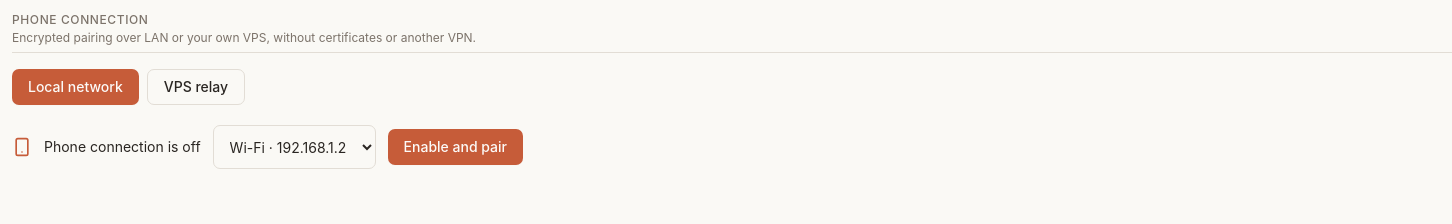
Test: desktop phone pairing › requires an explicit action and never presents a QR when the listener fails
This screenshot has width=1452, height=224.
Click the button "Enable and pair": x=455, y=147 [388,129,523,165]
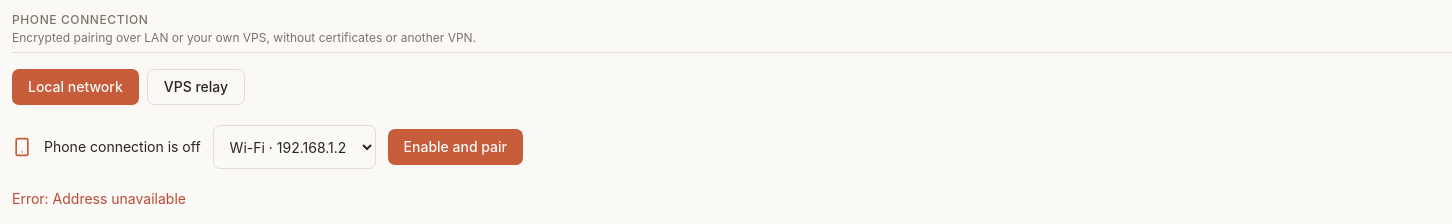
Expected: the message shows "Address unavailable", [12,190,186,207]
